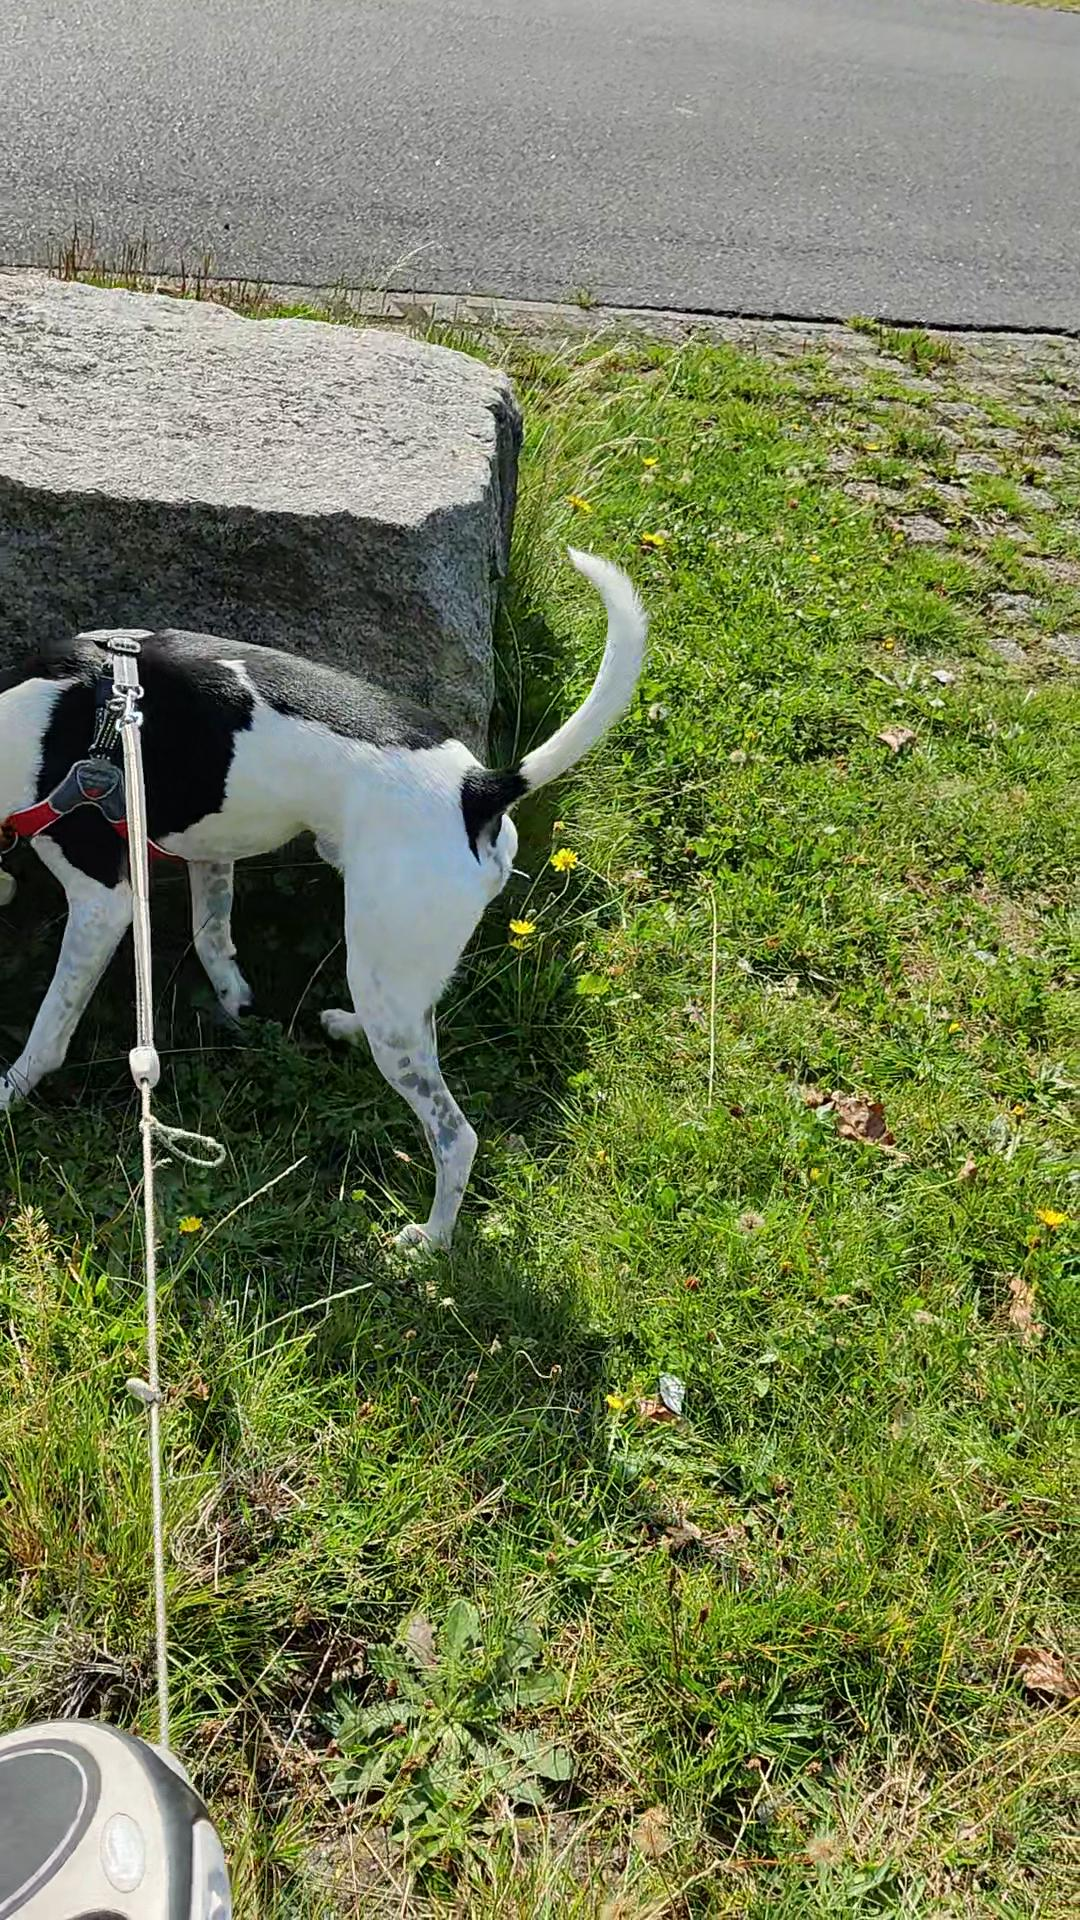Dog: (0, 522, 658, 1263)
